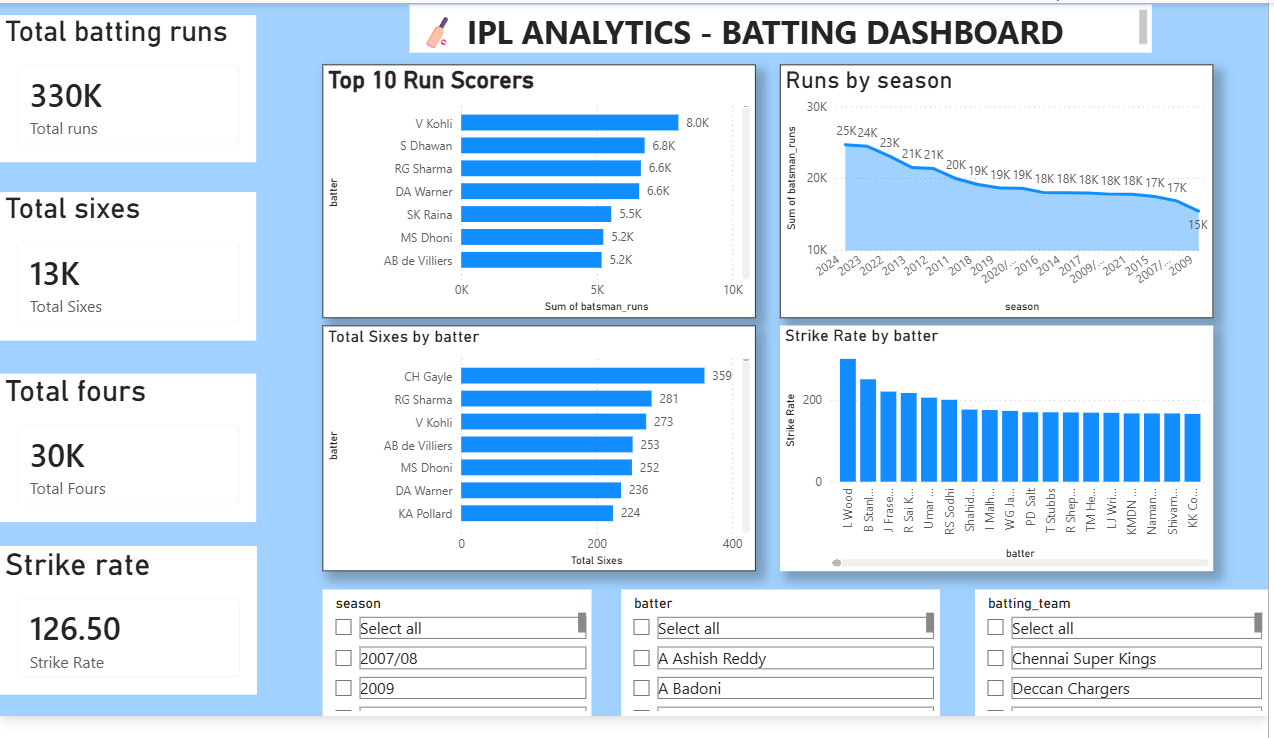

This screenshot's page, from the dashboard's own definition file:
{"tool":"powerbi","page":{"name":"Batting dashboard","canvas":[1280,720],"ordinal":1},"visuals":[{"type":"cardVisual","title":"Total batting runs","fields":{"Data":["deliveries.Total runs"]},"box":[0,12.1,258.9,148.4],"z":0},{"type":"cardVisual","title":"Total sixes","fields":{"Data":["deliveries.Total Sixes"]},"box":[0,190.8,258.9,149.9],"z":1000},{"type":"cardVisual","title":"Total fours","fields":{"Data":["deliveries.Total Fours"]},"box":[0,374,258.9,149.9],"z":2000},{"type":"cardVisual","title":"Strike rate","fields":{"Data":["deliveries.Strike Rate"]},"box":[0,548,259,150],"z":3000},{"type":"clusteredBarChart","title":"Top 10 Run Scorers","fields":{"Category":["deliveries.batter"],"Y":["Sum(deliveries.batsman_runs)"]},"box":[325.6,33.3,437.6,255.9],"z":4000},{"type":"lineChart","title":"Runs by season","fields":{"Category":["matches.season"],"Y":["Sum(deliveries.batsman_runs)"]},"box":[775.3,34.8,437.6,255.9],"z":5000},{"type":"barChart","fields":{"Category":["deliveries.batter"],"Y":["deliveries.Total Sixes"]},"box":[325.6,313.4,437.6,248.3],"z":6000},{"type":"columnChart","fields":{"Category":["deliveries.batter"],"Y":["deliveries.Strike Rate"]},"box":[776.8,313.4,437.6,248.3],"z":7000},{"type":"slicer","fields":{"Values":["matches.season"]},"box":[325.6,592.1,271,127.2],"z":8000},{"type":"slicer","fields":{"Values":["deliveries.batter"]},"box":[626.9,592.1,321,127.2],"z":9000},{"type":"slicer","fields":{"Values":["deliveries.batting_team"]},"box":[984.2,592.1,295.3,127.2],"z":10000}]}

Visuals, with their boxes in screenshot pixels (x1, y1, x2, y2), scaled from the page's 1280x720 canvas onto the 1274x738 screenshot:
"Total batting runs" cardVisual: (x1=0, y1=12, x2=258, y2=165)
"Total sixes" cardVisual: (x1=0, y1=196, x2=258, y2=349)
"Total fours" cardVisual: (x1=0, y1=383, x2=258, y2=537)
"Strike rate" cardVisual: (x1=0, y1=562, x2=258, y2=715)
"Top 10 Run Scorers" clusteredBarChart: (x1=324, y1=34, x2=760, y2=296)
"Runs by season" lineChart: (x1=772, y1=36, x2=1207, y2=298)
barChart - deliveries.batter x deliveries.Total Sixes: (x1=324, y1=321, x2=760, y2=576)
columnChart - deliveries.batter x deliveries.Strike Rate: (x1=773, y1=321, x2=1209, y2=576)
slicer - matches.season: (x1=324, y1=607, x2=594, y2=737)
slicer - deliveries.batter: (x1=624, y1=607, x2=943, y2=737)
slicer - deliveries.batting_team: (x1=980, y1=607, x2=1273, y2=737)
